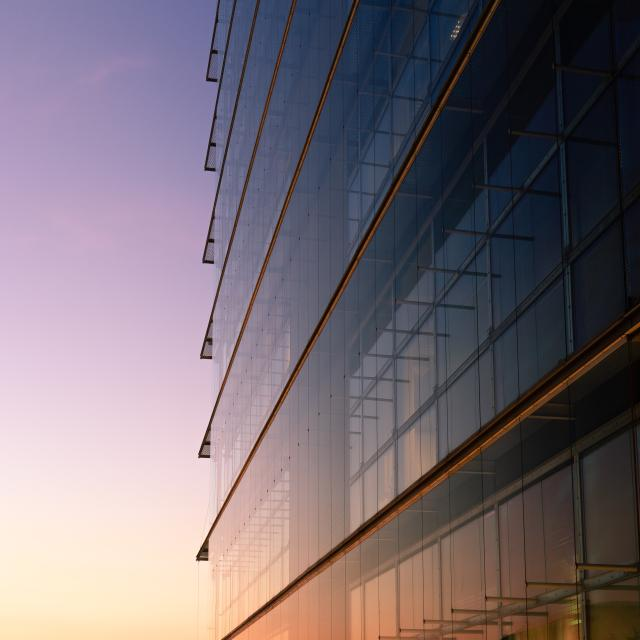Glass: (209, 0, 640, 640)
